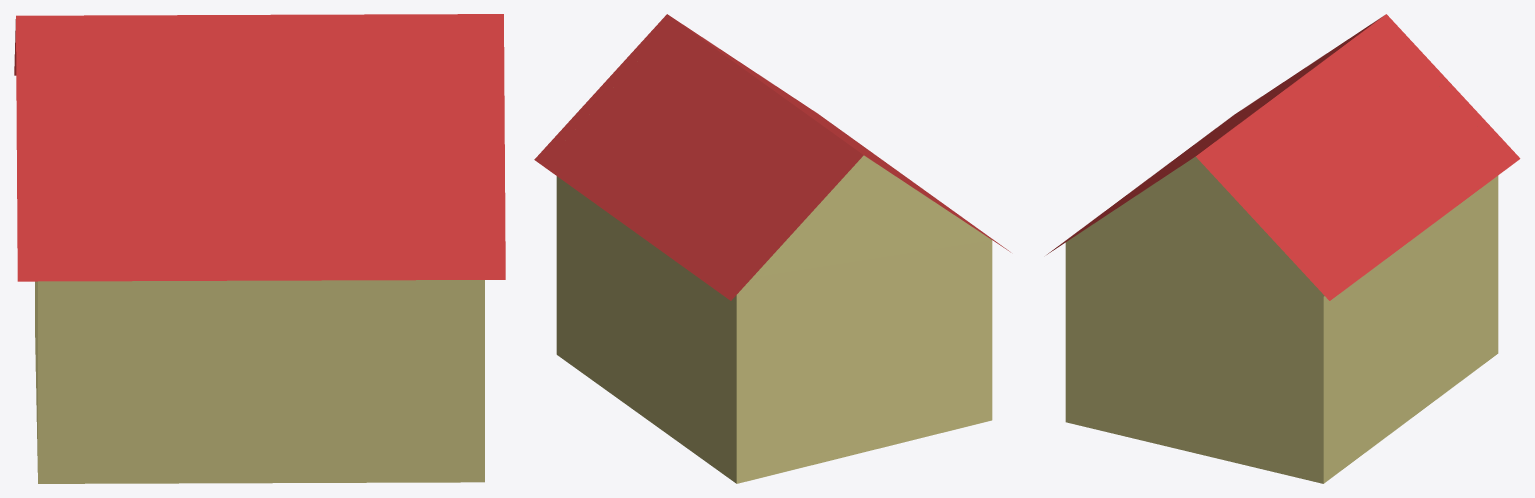
3 renders of one model, left to right at view 1: azimuth 30°, elevation 25°; view 2: azimuth 150°, elevation 25°; view 3: azimuth 270°, elevation 25°, orthographic. The views are drawn at different scales.
Size of the model in its own units: 15.33 by 14.65 by 10.32.
